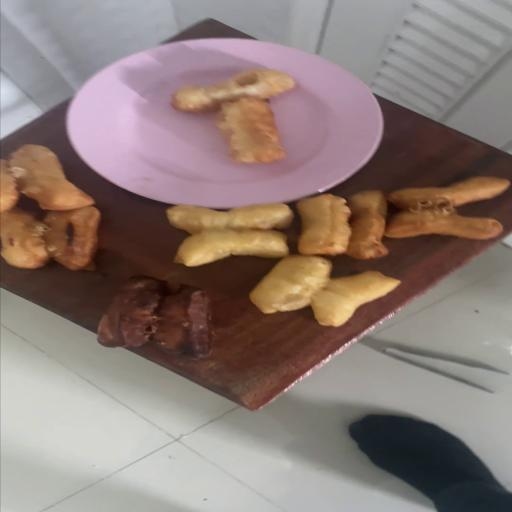street_golden_good: (167, 203, 400, 326)
